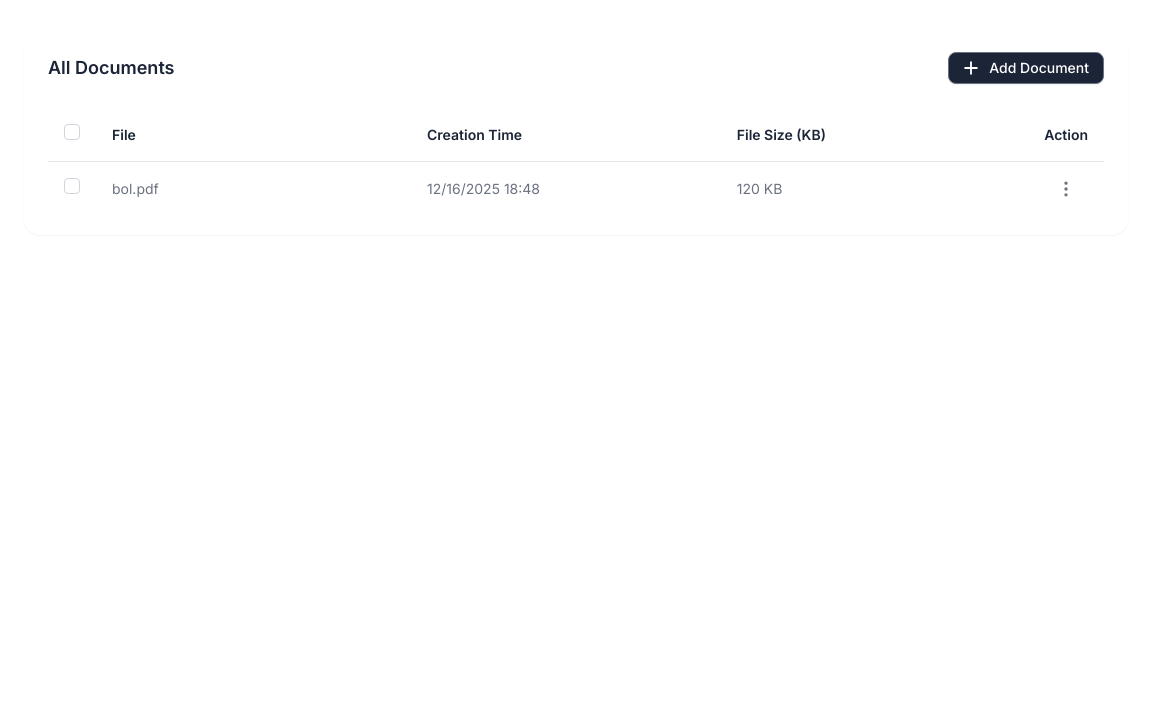
Test: DocumentsTab — Download affordance (LINX-12113) › disables the preview-modal Download button for a seeded document with no attached file
This screenshot has width=1152, height=720.
Click the link "bol.pdf" at (135, 188), box [112,180,159,196]
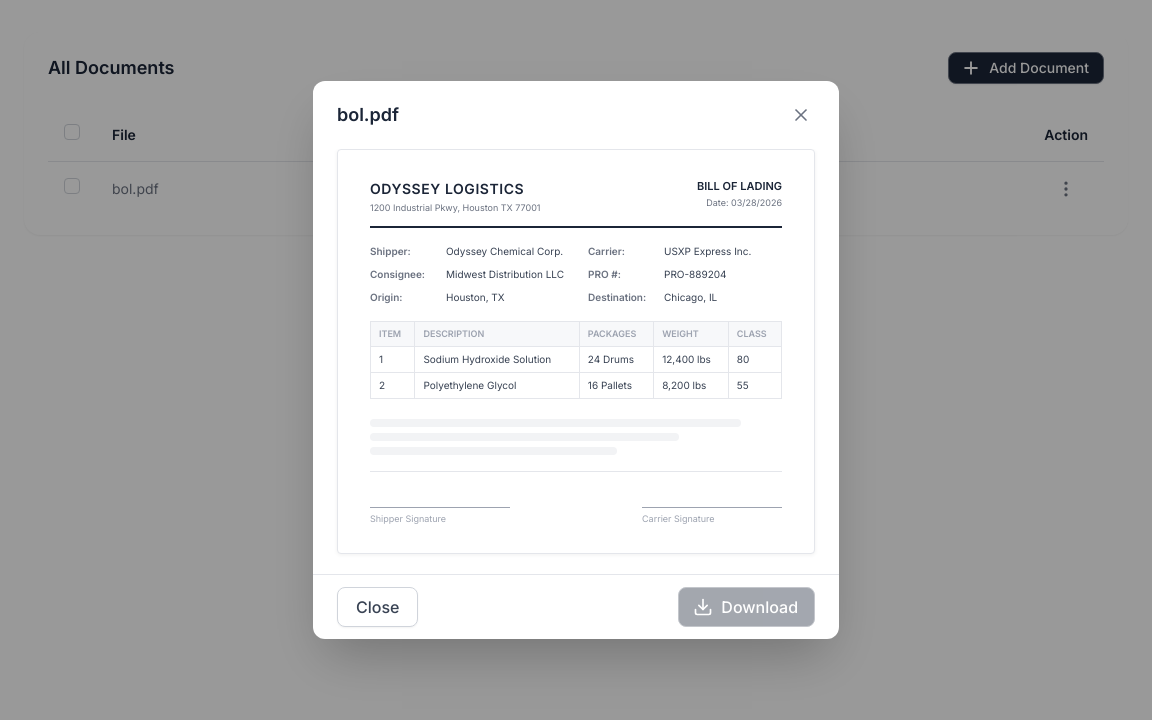
Check: the button "Download" is disabled, box [678,587,815,627]
